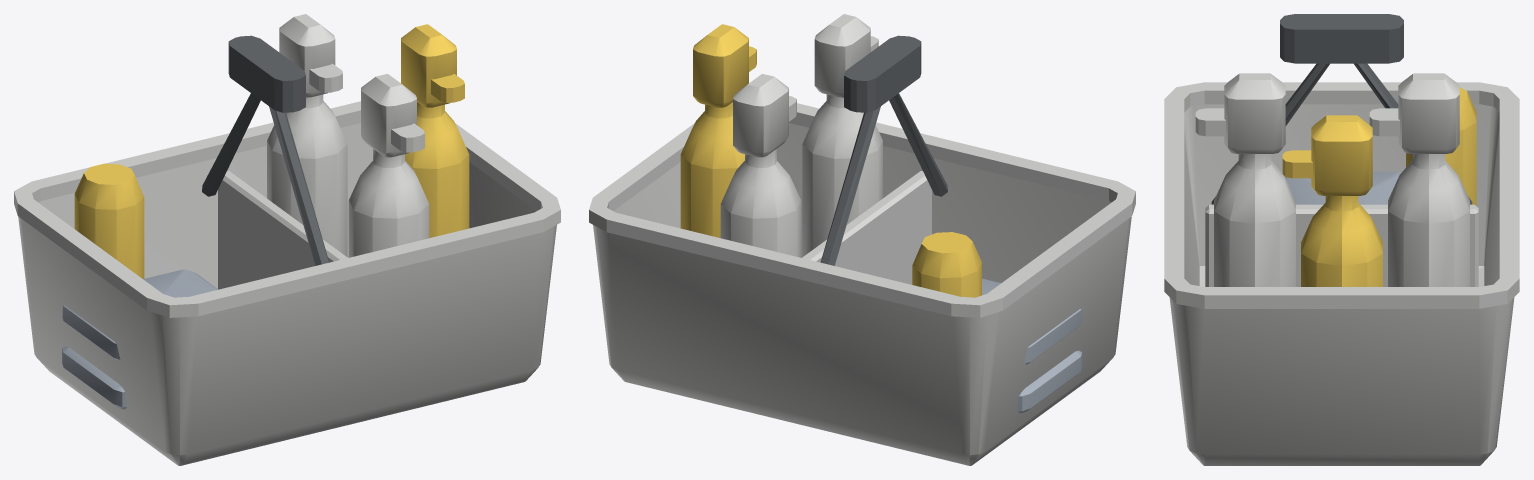
Rendered from laundrette-and-cleaning-cleaning-caddy-91ca1eb2__25574.glb.
The picture shows the model from 3 angles, left to right: view 1: azimuth 30°, elevation 25°; view 2: azimuth 150°, elevation 25°; view 3: azimuth 270°, elevation 25°; orthographic projection. The views are drawn at different scales.
Parts seen in each view (by area): view 1: cleaning-caddy; view 2: cleaning-caddy; view 3: cleaning-caddy.
Boxes of the visible parts, x1,y1,x2,y2 form: cleaning-caddy: (14,14,560,465); cleaning-caddy: (589,14,1135,465); cleaning-caddy: (1164,14,1519,465).
Bounding box in the file's own units: 0.406 × 0.305 × 0.286.
